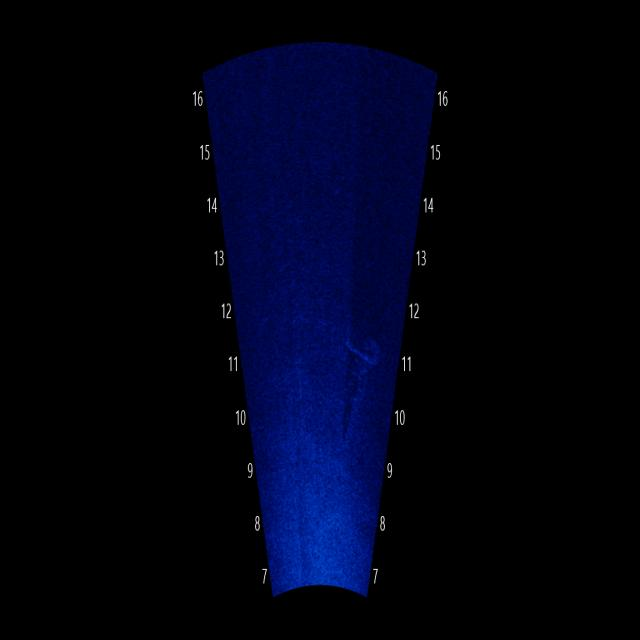circle: (324, 156, 347, 204)
triangle: (338, 318, 385, 460)
